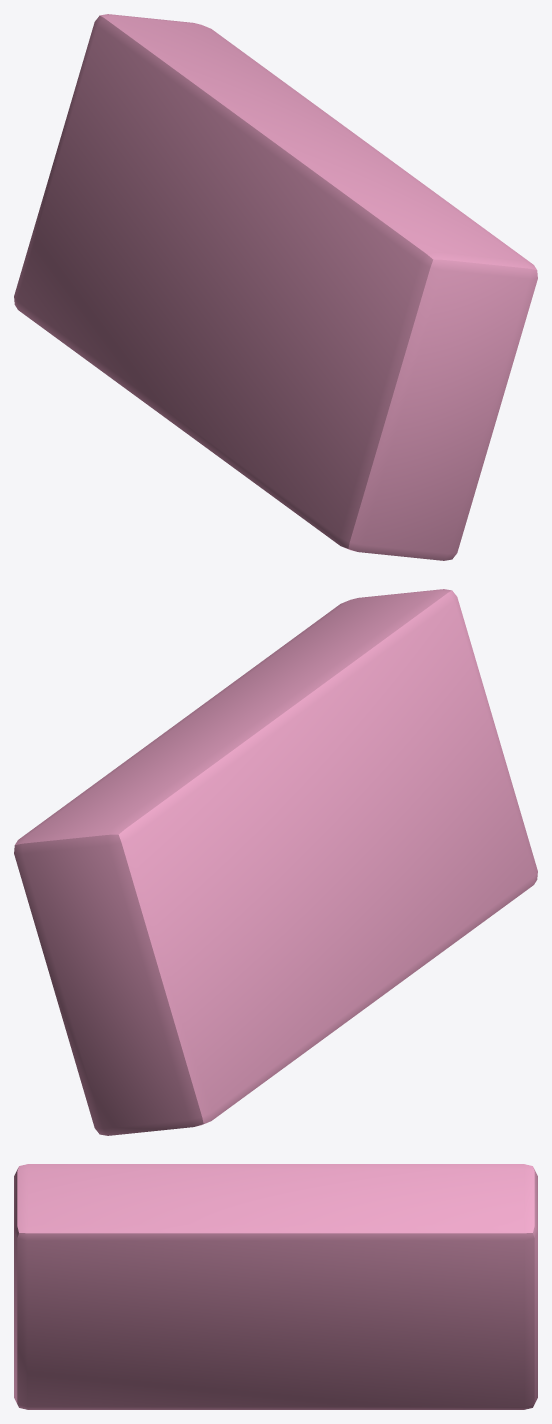
The model's file is Cojines.fbx.
3 renders of one model, top to bottom at view 1: azimuth 30°, elevation 25°; view 2: azimuth 150°, elevation 25°; view 3: azimuth 270°, elevation 25°, orthographic. The views are drawn at different scales.
Parts seen in each view (by area): view 1: Cojines(mapeado)(texturizado); view 2: Cojines(mapeado)(texturizado); view 3: Cojines(mapeado)(texturizado).
Part boxes in pixels (x1,y1,x2,y2): Cojines(mapeado)(texturizado): (14, 14, 537, 560); Cojines(mapeado)(texturizado): (14, 589, 537, 1135); Cojines(mapeado)(texturizado): (14, 1164, 537, 1409).
Bounding box in the file's own units: 127 × 191 × 382.
